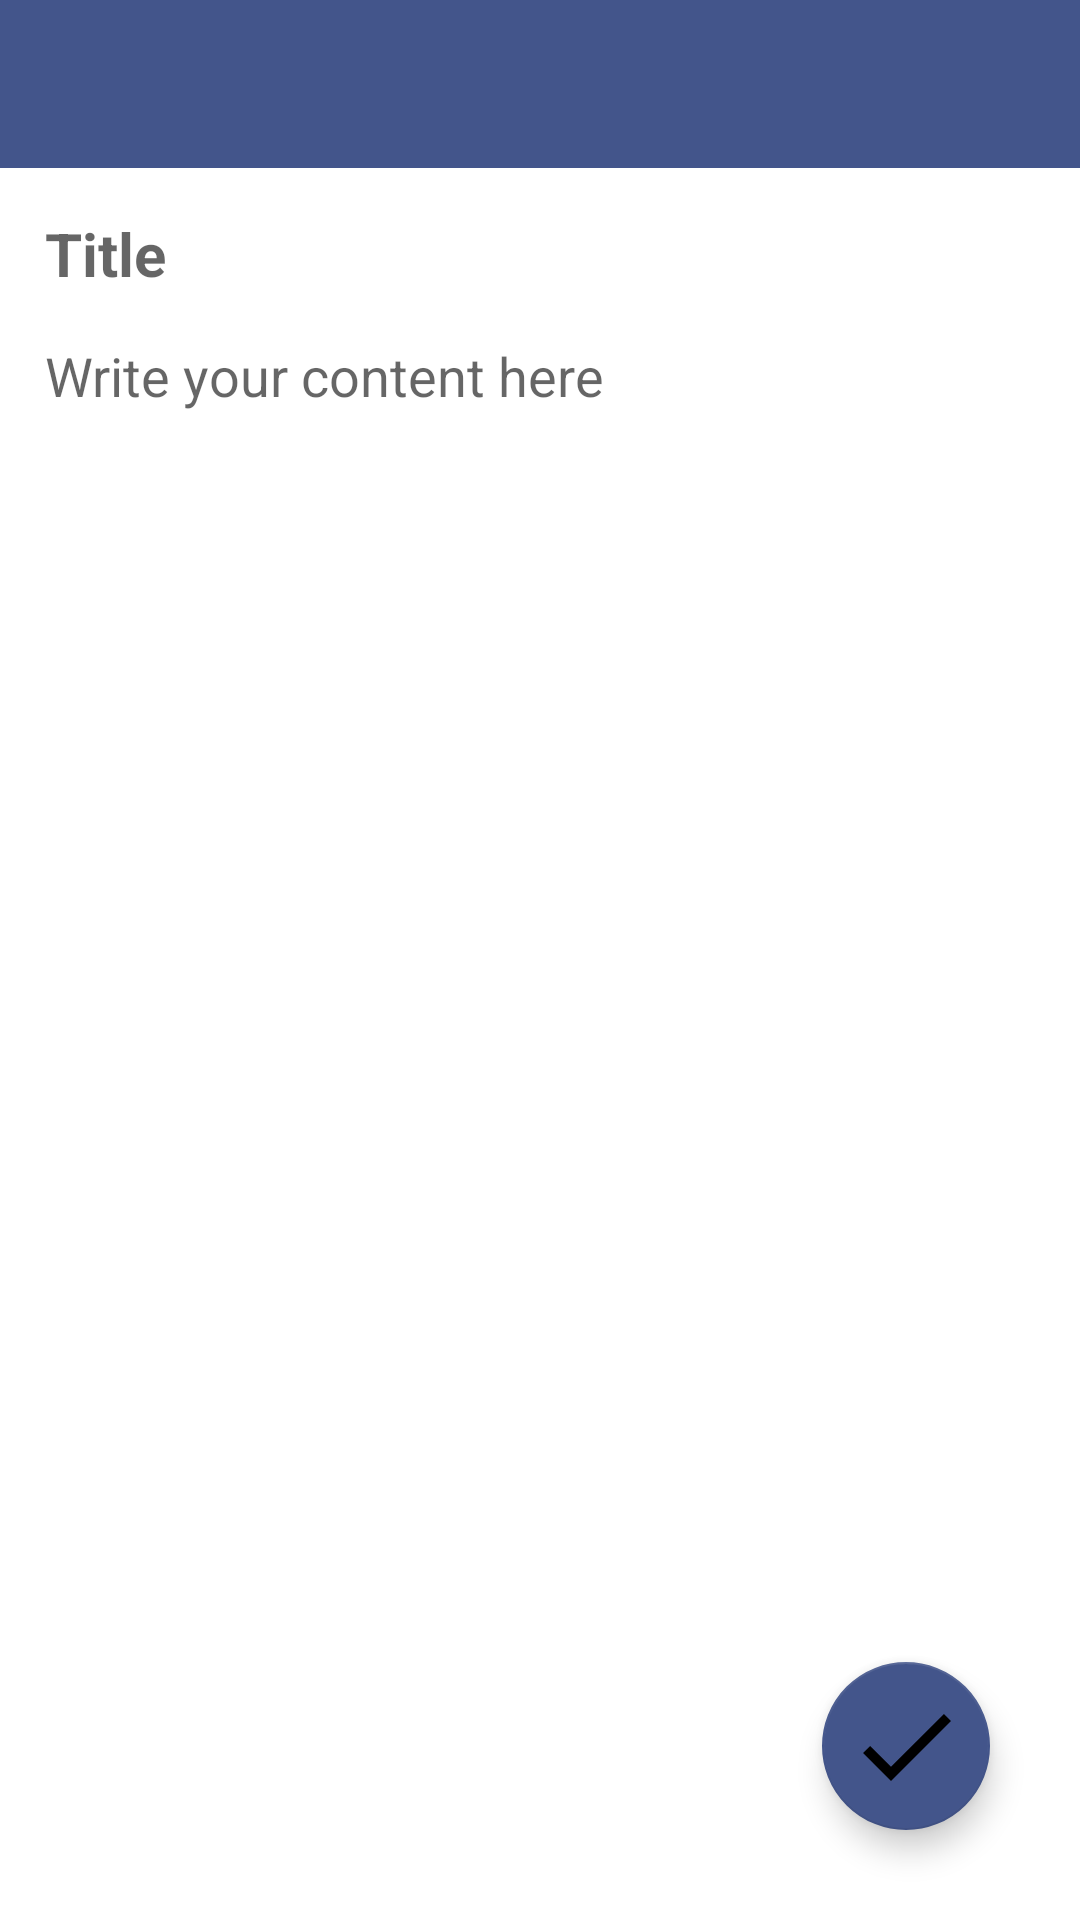

Icon bounding boxes for this 1080 x 1920 phone screenshot, format detection(x1, y1, x2, y2):
check: detection(822, 1662, 990, 1830)
